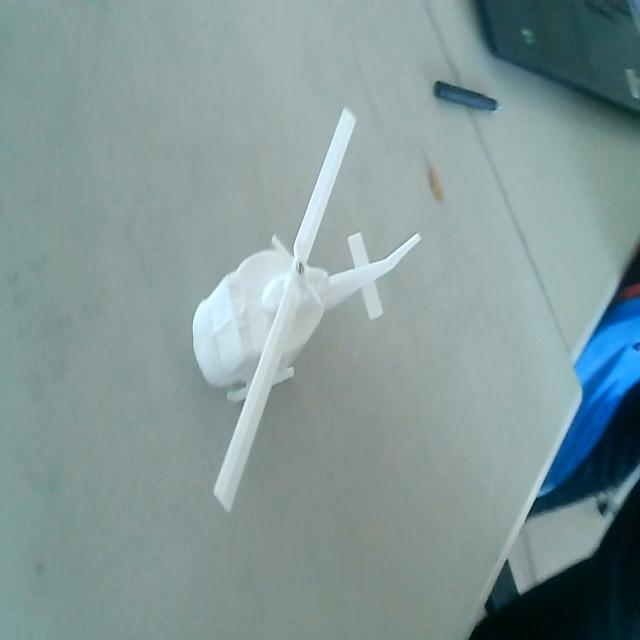Helicopter: (192, 104, 418, 516)
